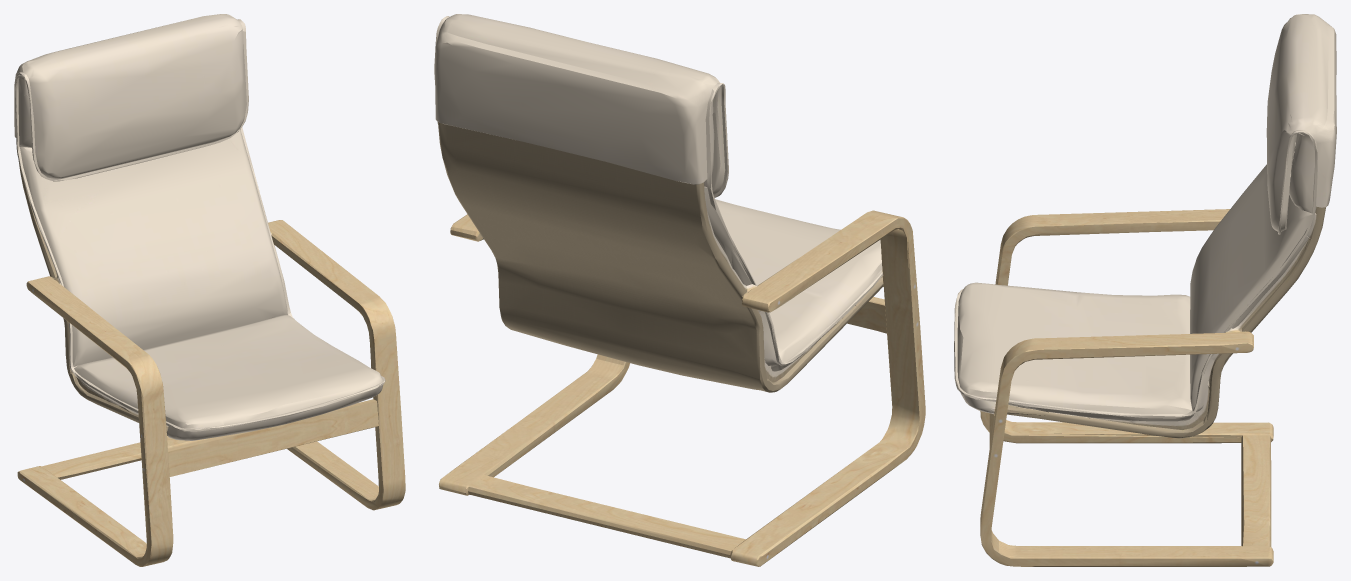
The picture shows the model from 3 angles, left to right: view 1: azimuth 30°, elevation 25°; view 2: azimuth 150°, elevation 25°; view 3: azimuth 270°, elevation 25°; orthographic projection. The views are drawn at different scales.
Parts seen in each view (by area): view 1: ProcessedMeshNode; view 2: ProcessedMeshNode; view 3: ProcessedMeshNode.
Boxes of the visible parts, x1,y1,x2,y2 form: ProcessedMeshNode: [14, 14, 405, 566]; ProcessedMeshNode: [434, 14, 925, 566]; ProcessedMeshNode: [954, 14, 1336, 566].
Bounding box in the file's own units: 0.6733 × 1 × 0.7985.
1 material, 1 textured.
